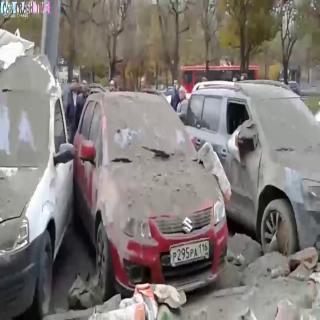multiple_accident: (93, 96, 247, 204)
